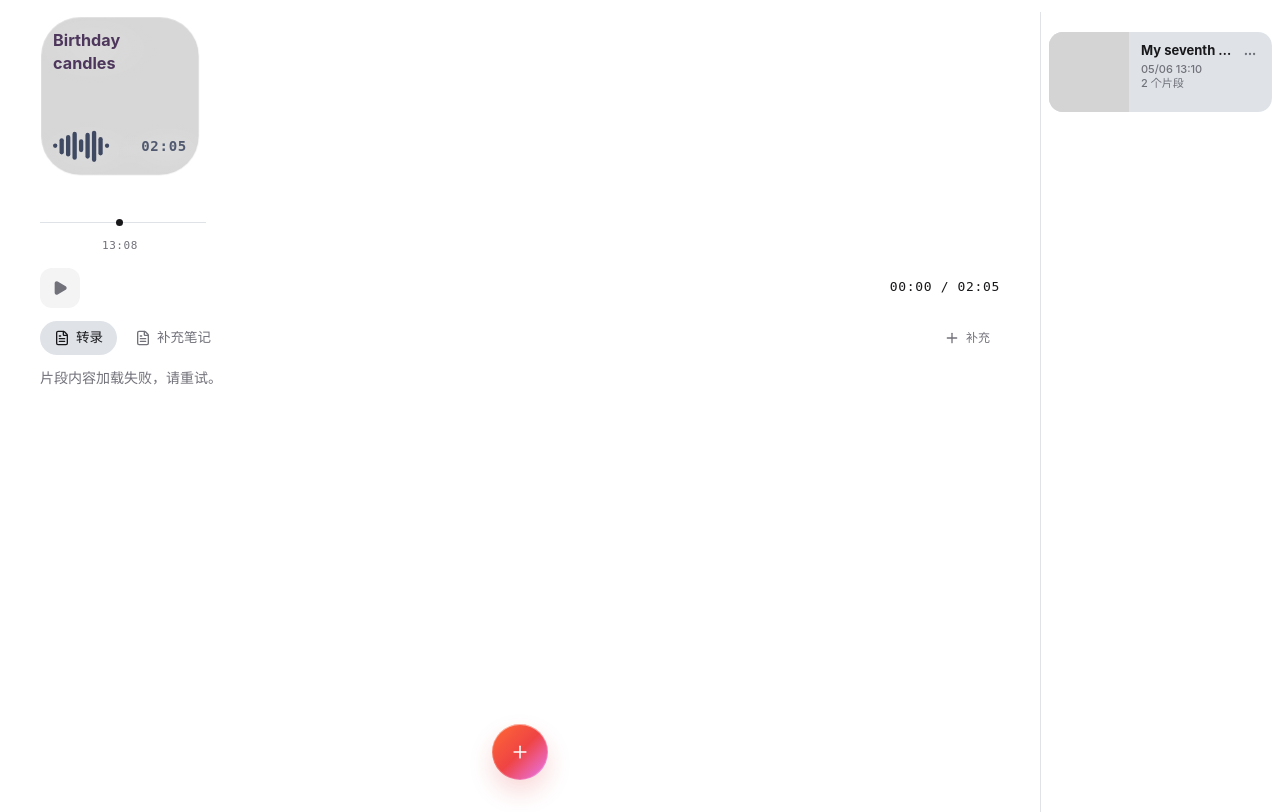
Scenario: LoadedWorkspaceFrame › shows finalized note supplements as content rail tabs without audio playback controls
Click the tab "补充笔记" at (166, 338), box [121,321,211,355]
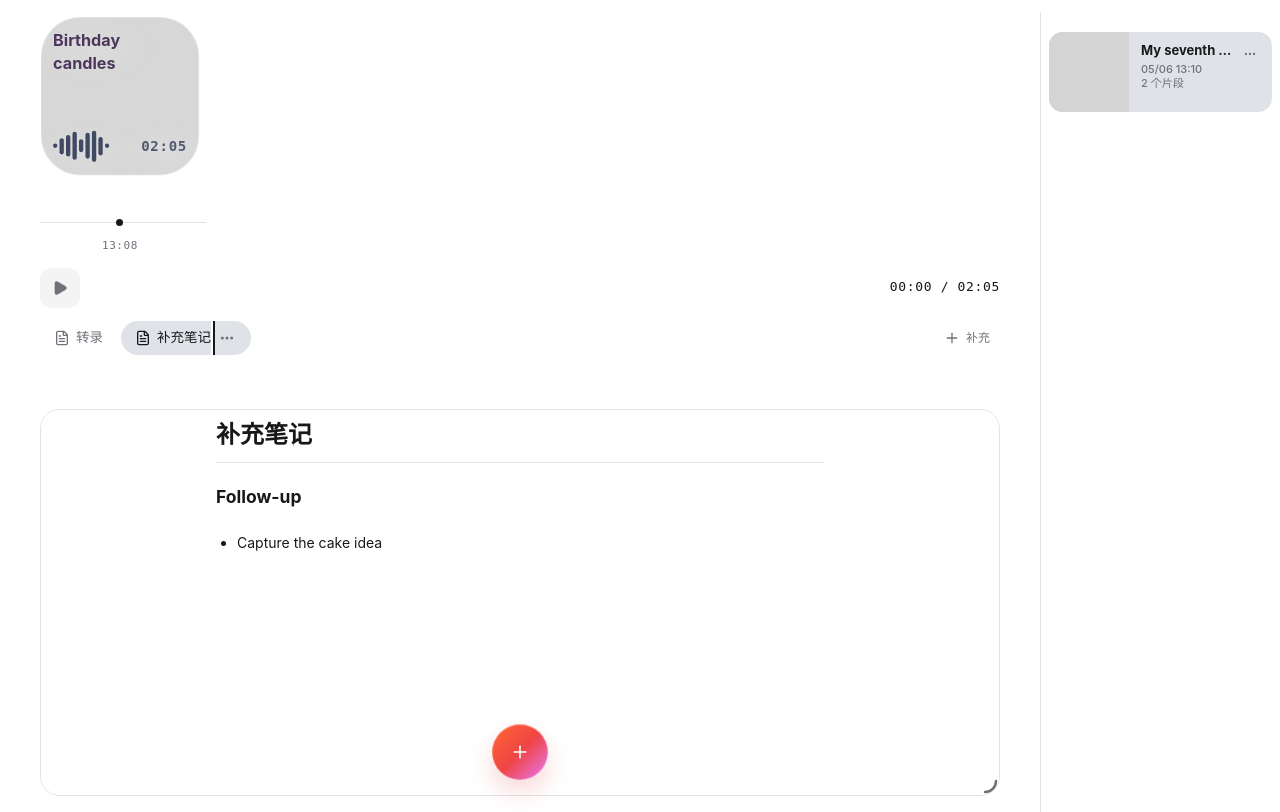
Expected: the field named "补充笔记正文" shows "Follow-up", [216,486,382,551]
Expected: the field named "补充笔记正文" shows "Capture the cake idea", [216,486,382,551]
